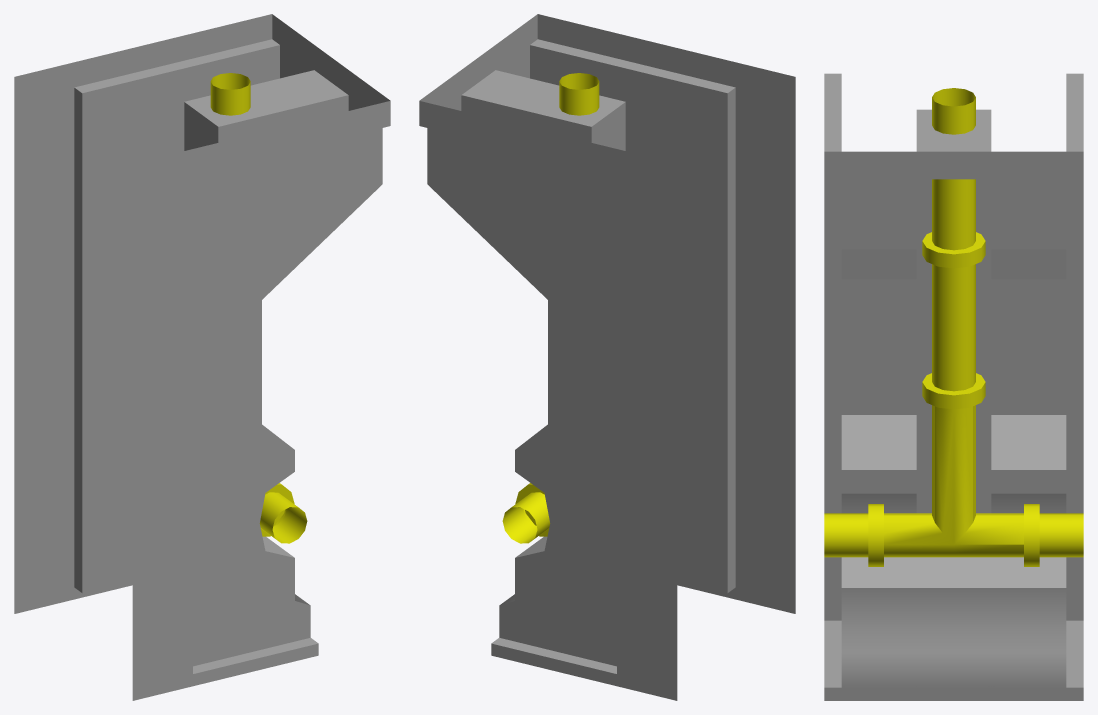
Rendered from Column_1LP.fbx.
3 renders of one model, left to right at view 1: azimuth 30°, elevation 25°; view 2: azimuth 150°, elevation 25°; view 3: azimuth 270°, elevation 25°, orthographic. The views are drawn at different scales.
Parts seen in each view (by area): view 1: pCube2; view 2: pCube2; view 3: pCube2.
Boxes of the visible parts, <box> form: pCube2: <box>14,14,390,700</box>; pCube2: <box>419,14,795,700</box>; pCube2: <box>824,73,1083,700</box>.
Bounding box in the file's own units: 5.02 × 10.01 × 4.
